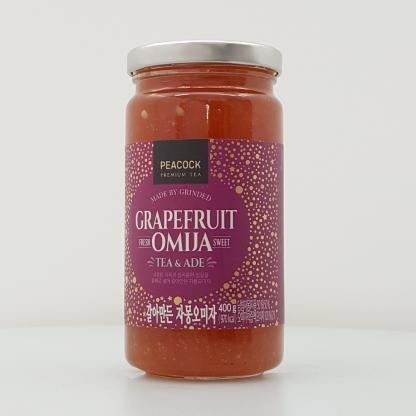---------------400G: (123, 40, 284, 380)
